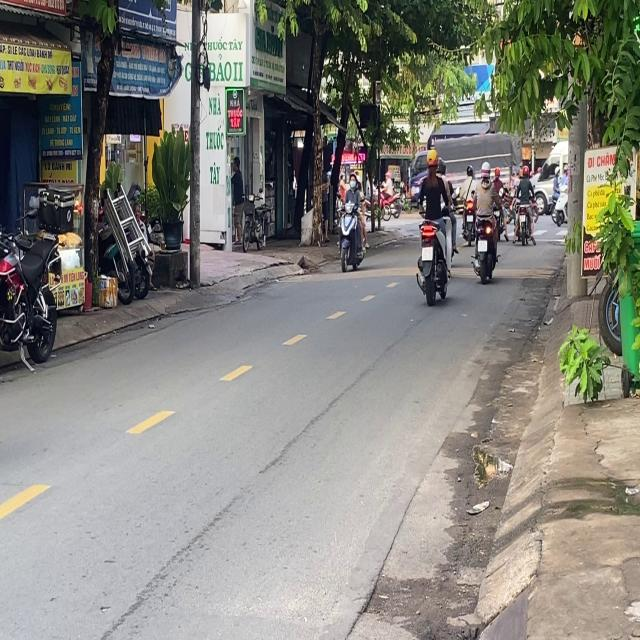helmet: (425, 146, 438, 172)
licenseplate: (414, 146, 454, 304)
nohelmet: (421, 247, 433, 261)
